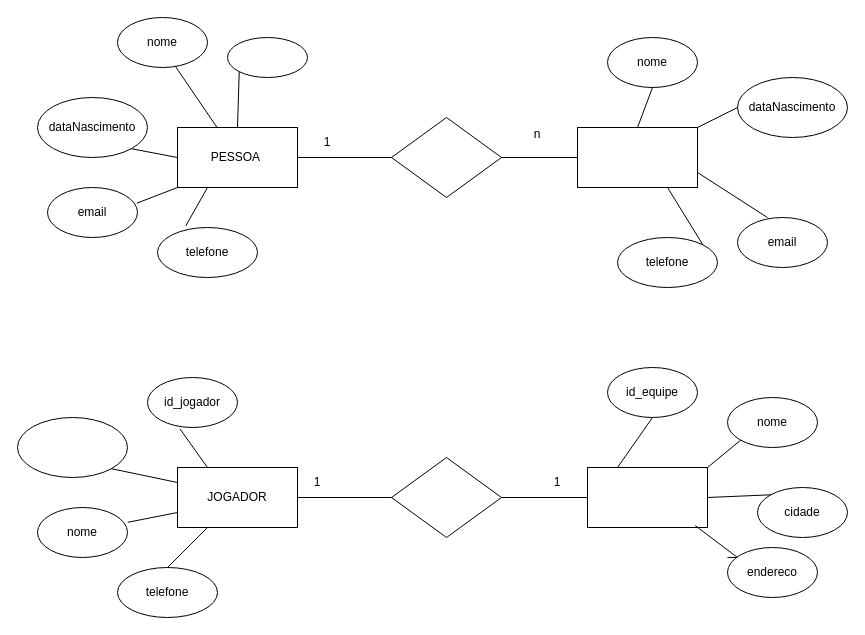
Some shapes in this 865 by 635 pixel diagram are drawn without their labels. Here are the shapes that lost their labels. From the top down, the box of each, then its label:
(226, 36, 308, 78): id
(390, 116, 502, 198): tem
(576, 126, 698, 188): AMIGO
(16, 416, 128, 478): posicao
(390, 456, 502, 538): joga
(586, 466, 708, 528): EQUIPE
